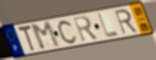C: (57, 19, 79, 45)
L: (96, 12, 120, 39)
M: (29, 20, 62, 52)
R: (72, 14, 100, 44), (113, 8, 139, 36)
T: (17, 24, 37, 53)
